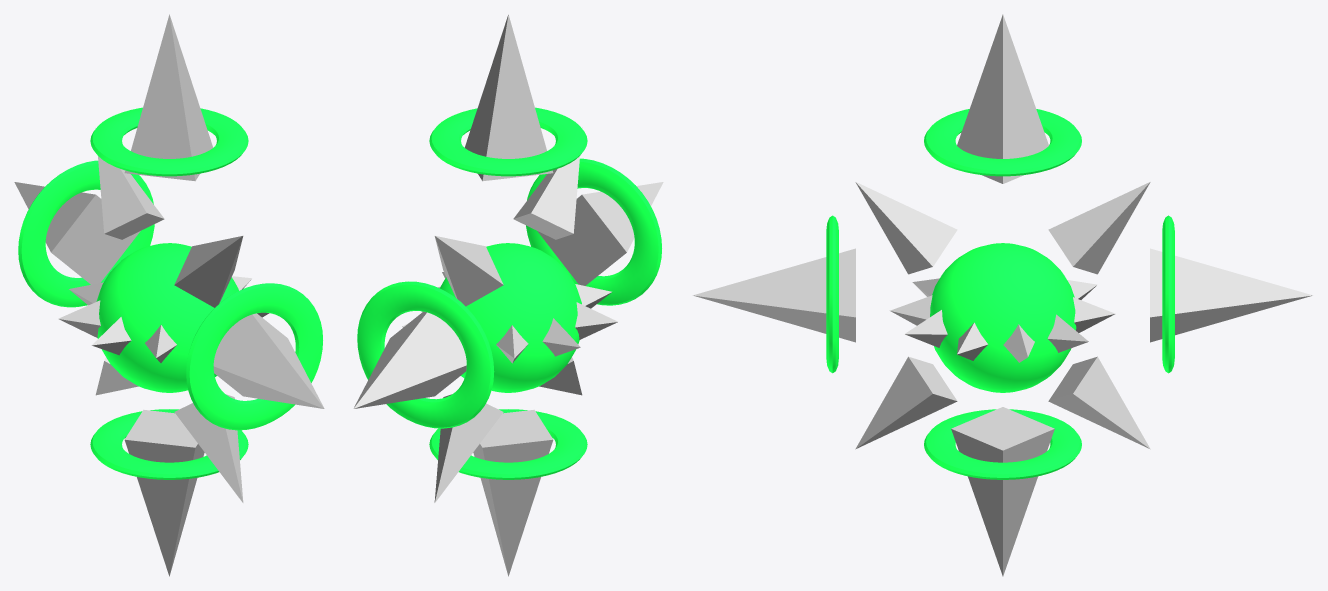
The model's file is BossOrb.fbx.
3 renders of one model, left to right at view 1: azimuth 30°, elevation 25°; view 2: azimuth 150°, elevation 25°; view 3: azimuth 270°, elevation 25°, orthographic.
Visible parts, largest first — view 1: Sphere; view 2: Sphere; view 3: Sphere.
Part boxes in pixels (box(x1,y1,x2,y2)): Sphere: box(14, 14, 324, 576); Sphere: box(353, 14, 663, 576); Sphere: box(692, 14, 1313, 576).
Size of the model in its own units: 292 by 828 by 828.
